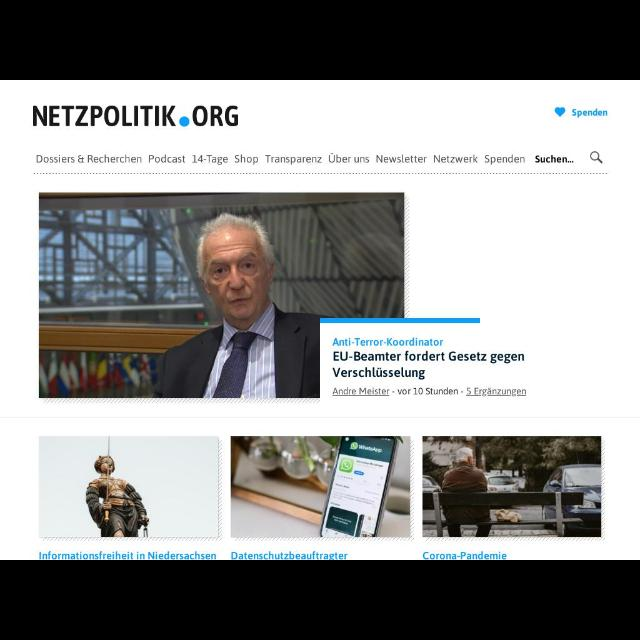icon: (590, 150, 602, 163)
image: (39, 192, 409, 404), (231, 436, 415, 542), (38, 436, 222, 540), (422, 436, 606, 540), (555, 107, 565, 117)
panel: (320, 318, 528, 404)
text: (34, 105, 238, 127), (333, 351, 524, 364), (332, 388, 526, 397), (39, 551, 215, 559), (332, 367, 426, 379), (36, 154, 142, 164), (232, 551, 348, 559), (332, 338, 443, 346), (266, 155, 322, 165), (423, 552, 507, 558), (376, 154, 426, 164), (434, 154, 478, 164), (328, 153, 369, 163), (485, 154, 525, 164), (148, 154, 186, 164), (192, 155, 228, 165), (572, 109, 608, 118), (535, 155, 573, 163), (235, 154, 259, 166)
